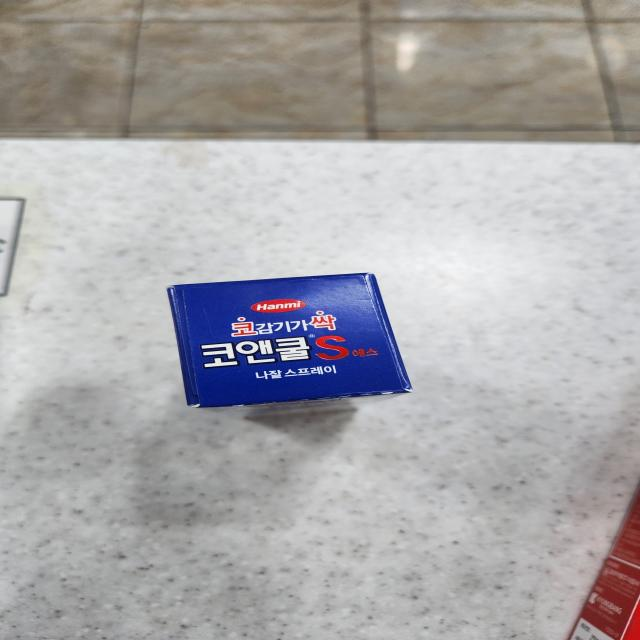box: (169, 274, 410, 409)
